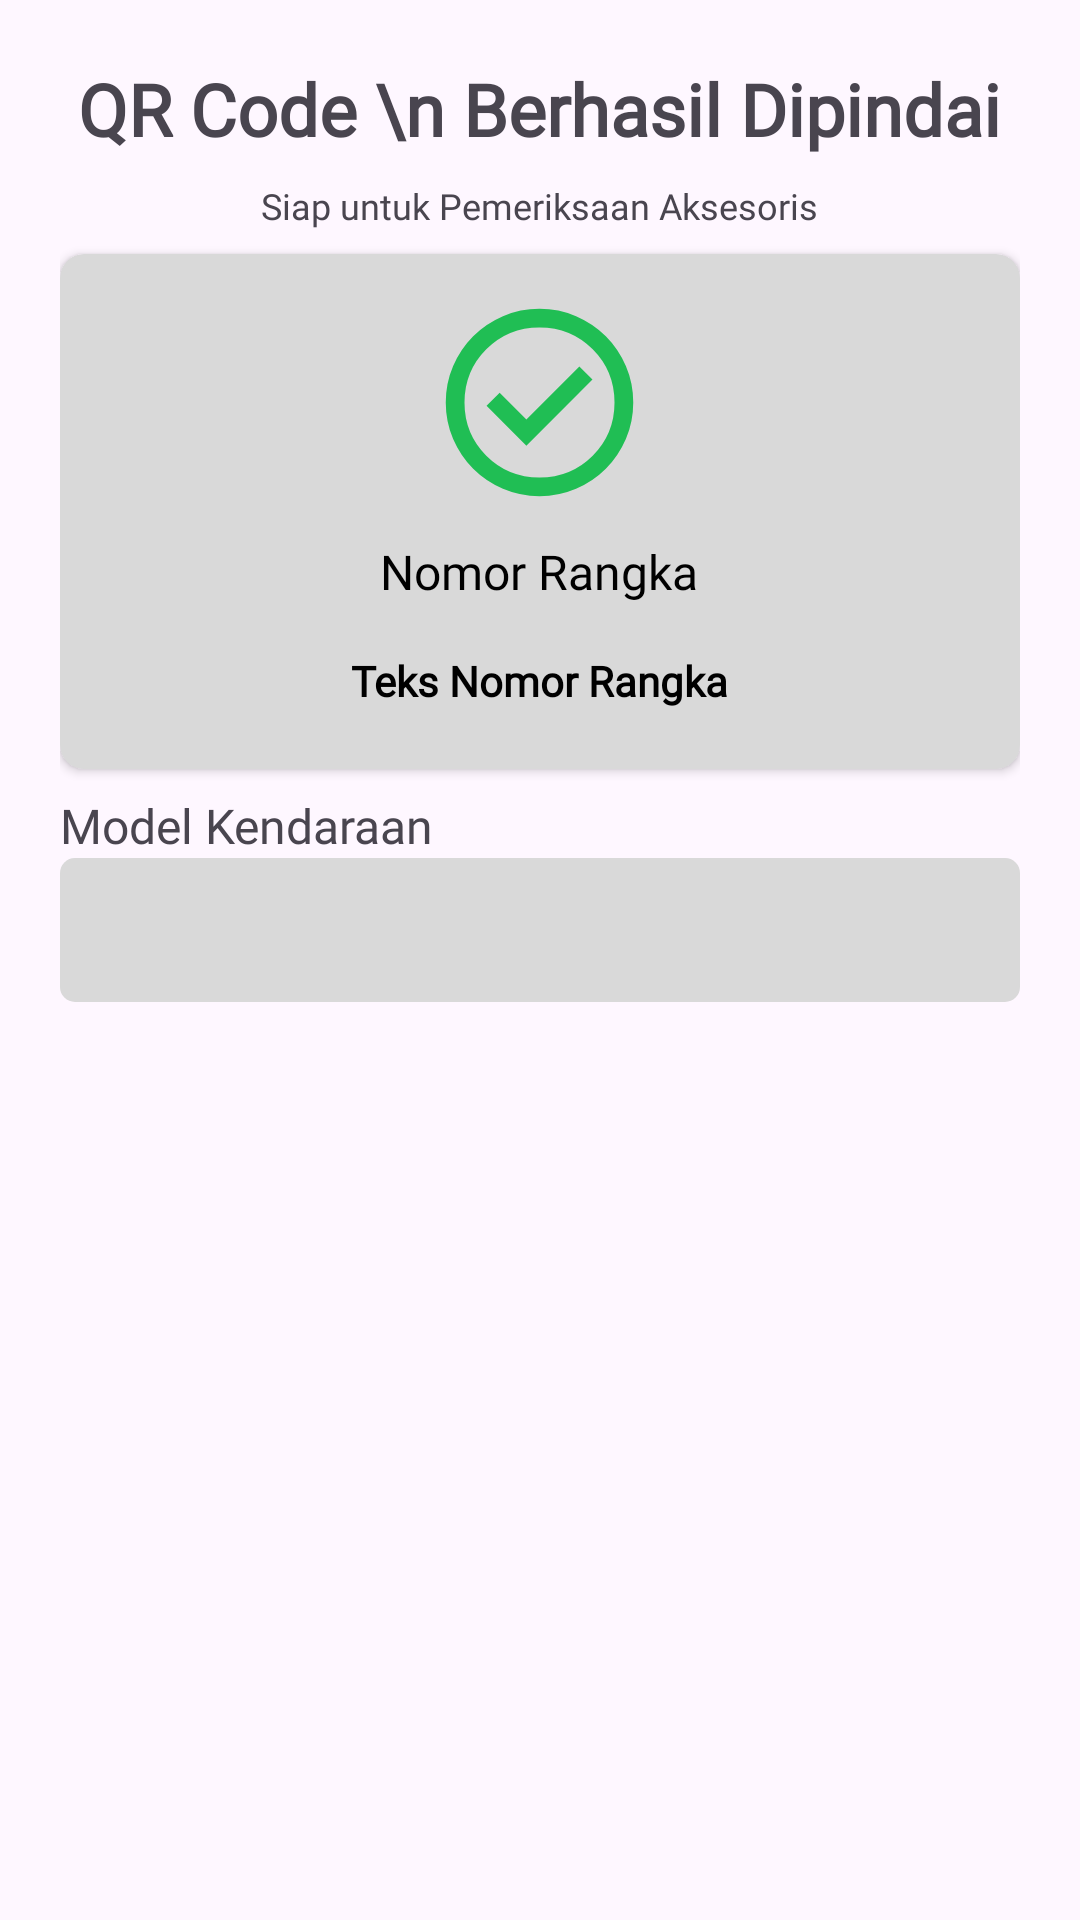

Named icons in this screenshot (1080*1920) and their centers, [x,y]:
success: [539,402]
